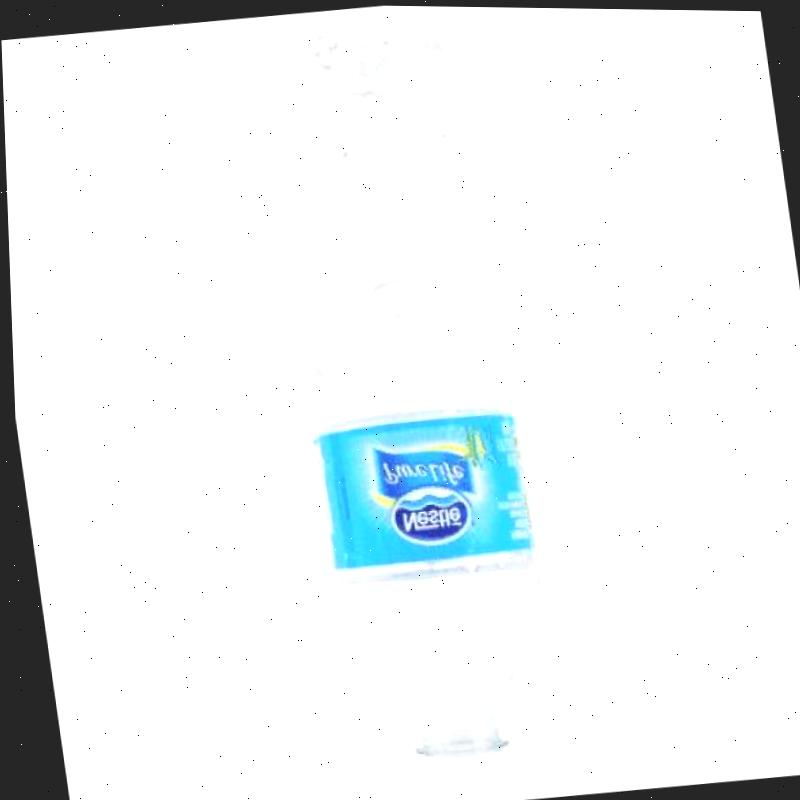botella: (254, 21, 560, 800)
